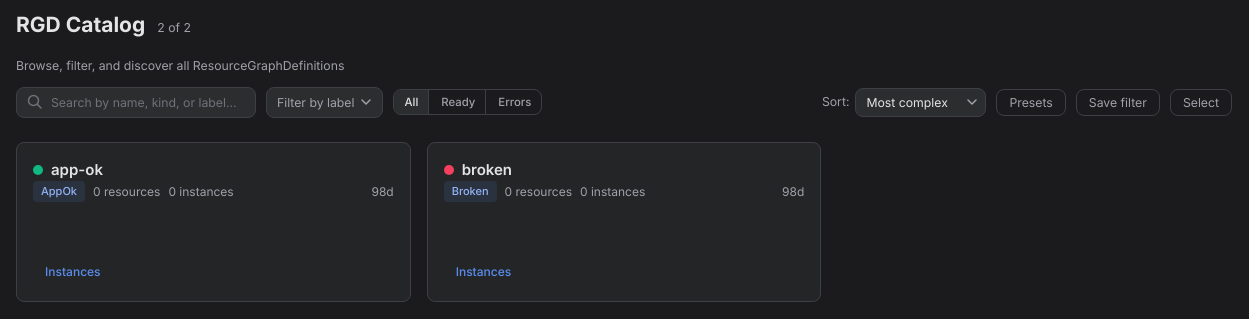
Test: Catalog › All filter restores full list after Errors filter
The image size is (1249, 319).
Expected: the element with test id "catalog-card-app-ok" is shown, x1=16 y1=142 x2=411 y2=302
Click the button with test id "catalog-status-errors".
click(515, 102)  # box x1=488 y1=90 x2=541 y2=114
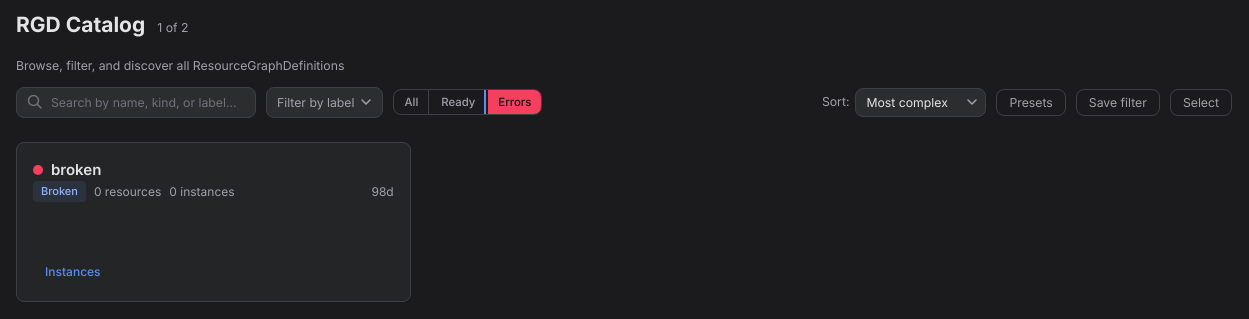
Expected: the element with test id "catalog-card-app-ok" is gone
Click the button with test id "catalog-status-all".
click(412, 102)  # box x1=394 y1=90 x2=429 y2=114
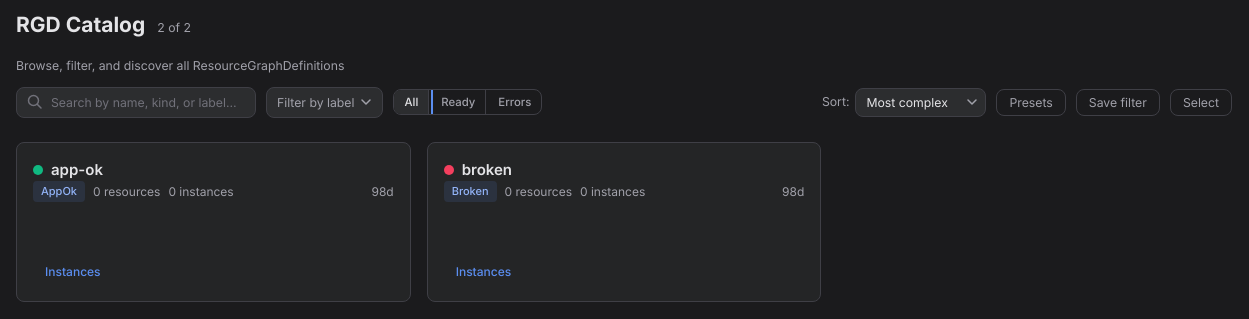
Expected: the element with test id "catalog-card-broken" is shown, x1=427 y1=142 x2=821 y2=302
Expected: the element with test id "catalog-card-app-ok" is shown, x1=16 y1=142 x2=411 y2=302
